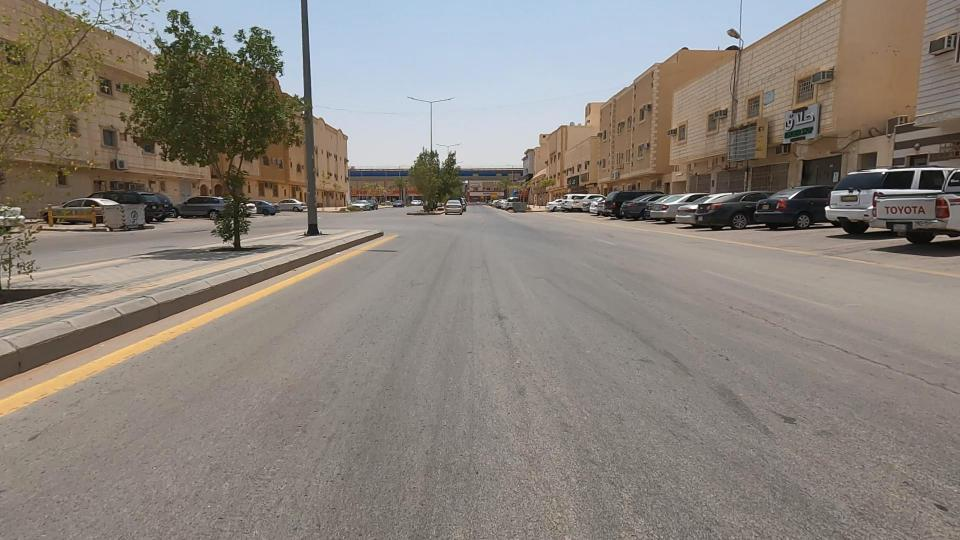BAD_BILLBOARD: (684, 94, 803, 186)
